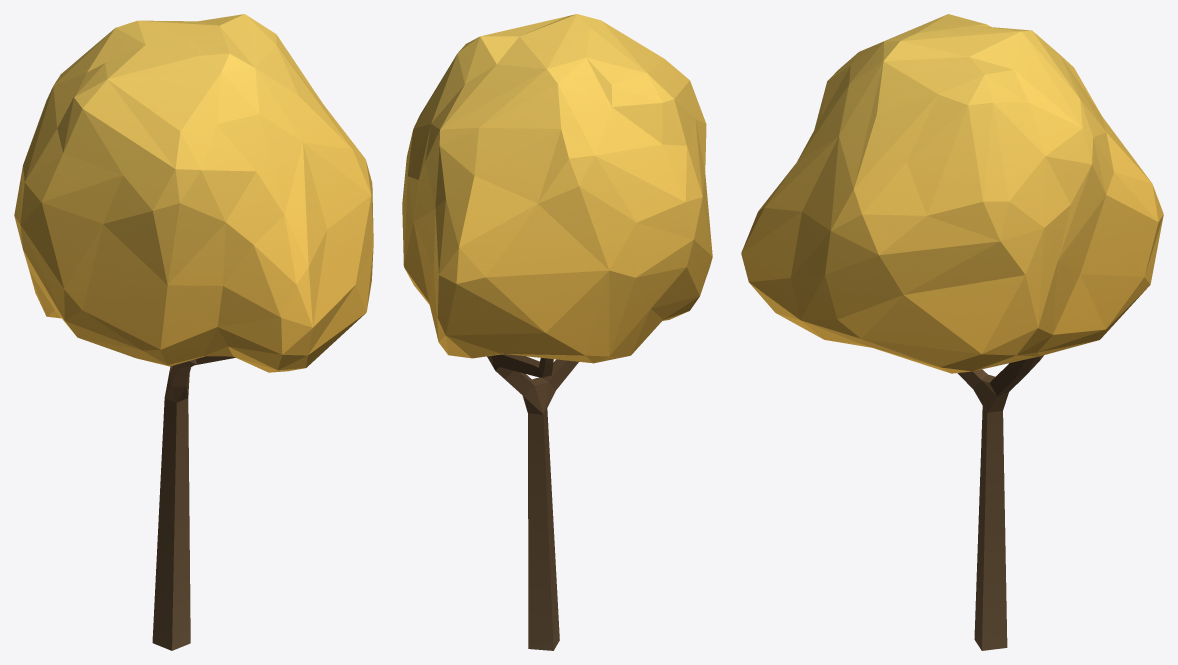
Rendered from large-tree-1.glb.
3 renders of one model, left to right at view 1: azimuth 30°, elevation 25°; view 2: azimuth 150°, elevation 25°; view 3: azimuth 270°, elevation 25°, orthographic. The views are drawn at different scales.
Visible parts, largest first — view 1: large-tree-1; view 2: large-tree-1; view 3: large-tree-1.
Boxes of the visible parts, box(x1,y1,x2,y2) form: large-tree-1: box(14, 14, 373, 650); large-tree-1: box(402, 14, 712, 650); large-tree-1: box(741, 14, 1163, 650).
Bounding box in the file's own units: 0.1788 × 0.3568 × 0.2246.
1 material, 1 textured.
